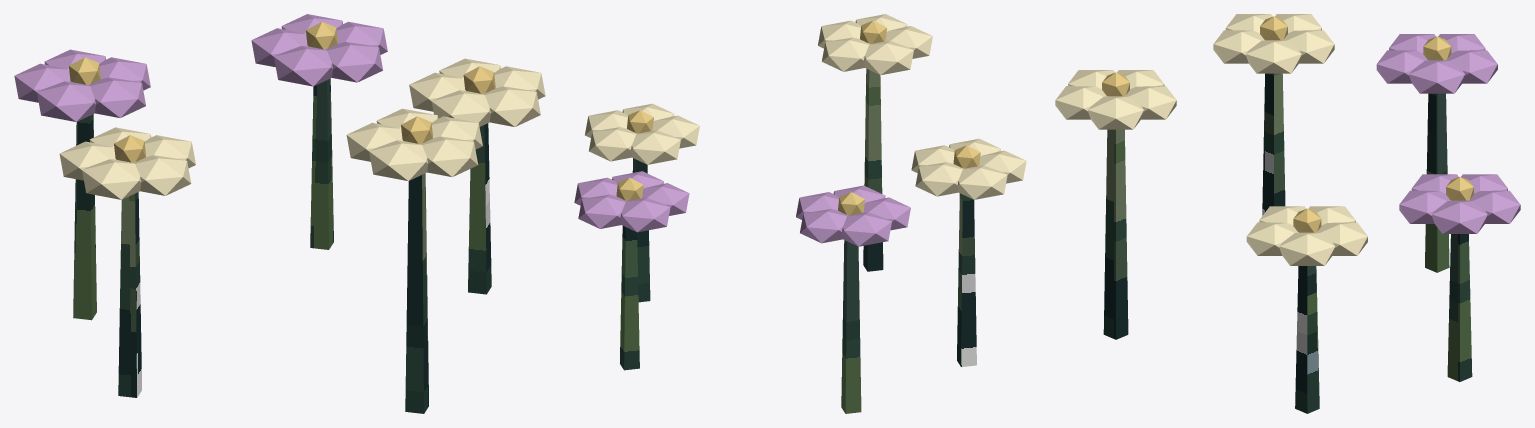
The model's file is enfeite_flores.fbx.
3 views of the same model, side by side, from view 1: azimuth 30°, elevation 25°; view 2: azimuth 150°, elevation 25°; view 3: azimuth 270°, elevation 25° (orthographic). The views are drawn at different scales.
Parts seen in each view (by area): view 1: bosque_enfeite_flores; view 2: bosque_enfeite_flores; view 3: bosque_enfeite_flores.
Part boxes in pixels (x1,y1,x2,y2): bosque_enfeite_flores: (14, 14, 545, 413); bosque_enfeite_flores: (574, 14, 1026, 413); bosque_enfeite_flores: (1055, 14, 1520, 413).
Bounding box in the file's own units: 36.6 × 21.1 × 33.9.
Materials: 4 (1 with a texture image).
